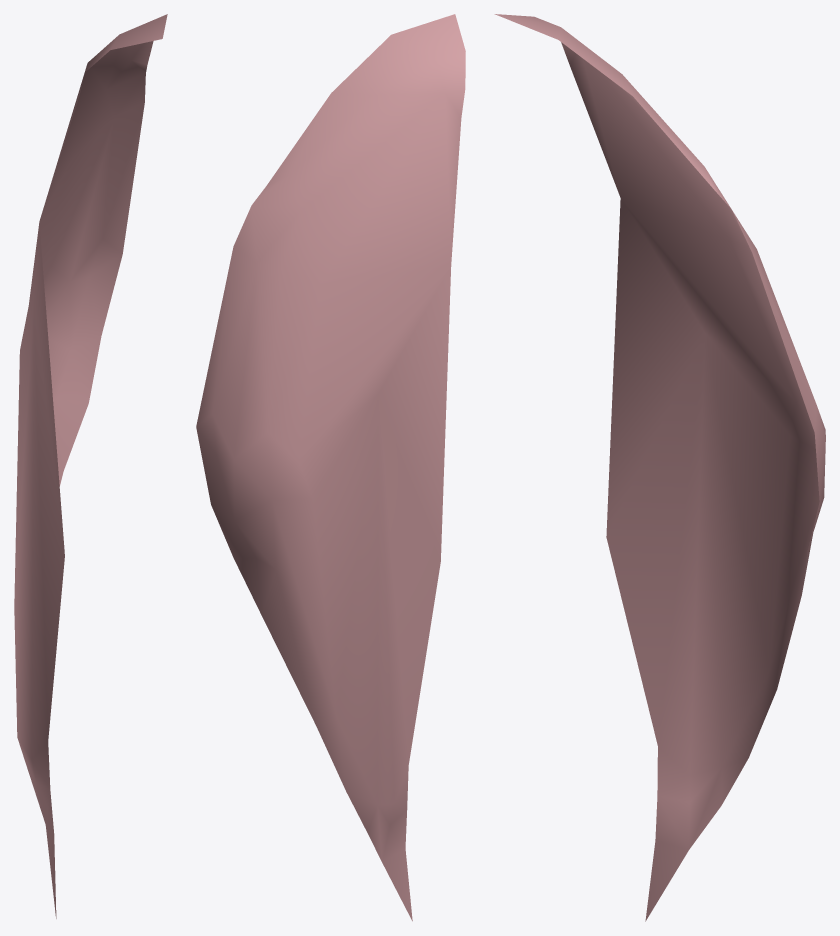
The picture shows the model from 3 angles, left to right: view 1: azimuth 30°, elevation 25°; view 2: azimuth 150°, elevation 25°; view 3: azimuth 270°, elevation 25°; orthographic projection. The views are drawn at different scales.
Visible parts, largest first — view 1: ZA_b3b1ab933b093fd1; view 2: ZA_b3b1ab933b093fd1; view 3: ZA_b3b1ab933b093fd1.
Part boxes in pixels (x1,y1,x2,y2): ZA_b3b1ab933b093fd1: (14, 14, 167, 918); ZA_b3b1ab933b093fd1: (196, 14, 465, 921); ZA_b3b1ab933b093fd1: (494, 14, 825, 921).
Bounding box in the file's own units: 0.00589 × 0.0289 × 0.00943.
